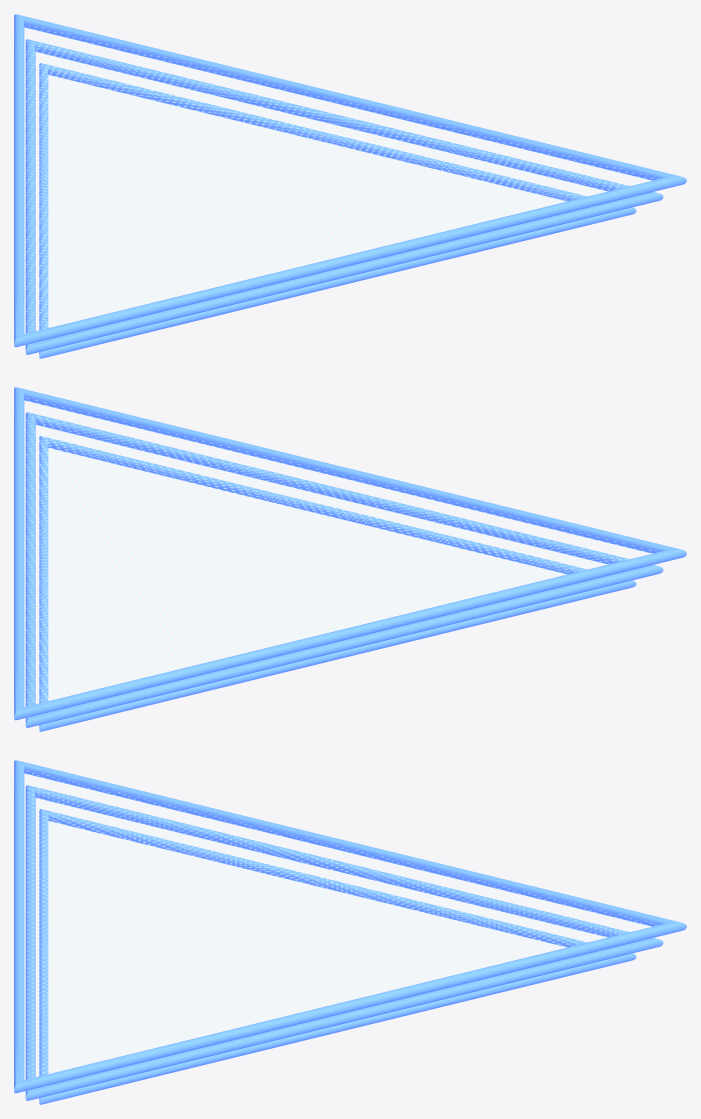
Rendered from portal.glb.
3 views of the same model, one above another, from view 1: azimuth 30°, elevation 25°; view 2: azimuth 150°, elevation 25°; view 3: azimuth 270°, elevation 25° (orthographic).
Parts seen in each view (by area): view 1: Portal; view 2: Portal; view 3: Portal.
Boxes of the visible parts, bbox=[...] form: Portal: bbox=[14, 14, 686, 358]; Portal: bbox=[14, 387, 686, 731]; Portal: bbox=[14, 760, 686, 1104].
Size of the model in its own units: 3.46 by 0.1924 by 2.99.
Materials: 2 (1 with a texture image).
